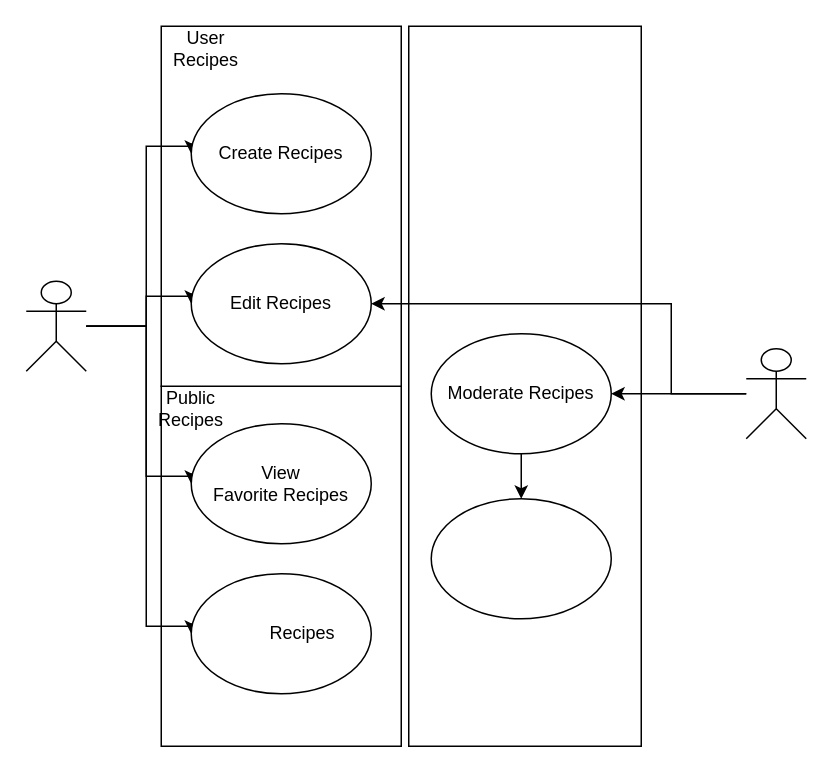
This 833x773 diagram has some shape labels left out. The centre of each missing label's shape, as x and y in pixels:
Admin: point (775, 393)
Publish Recipes: point (520, 558)
User: point (55, 325)
